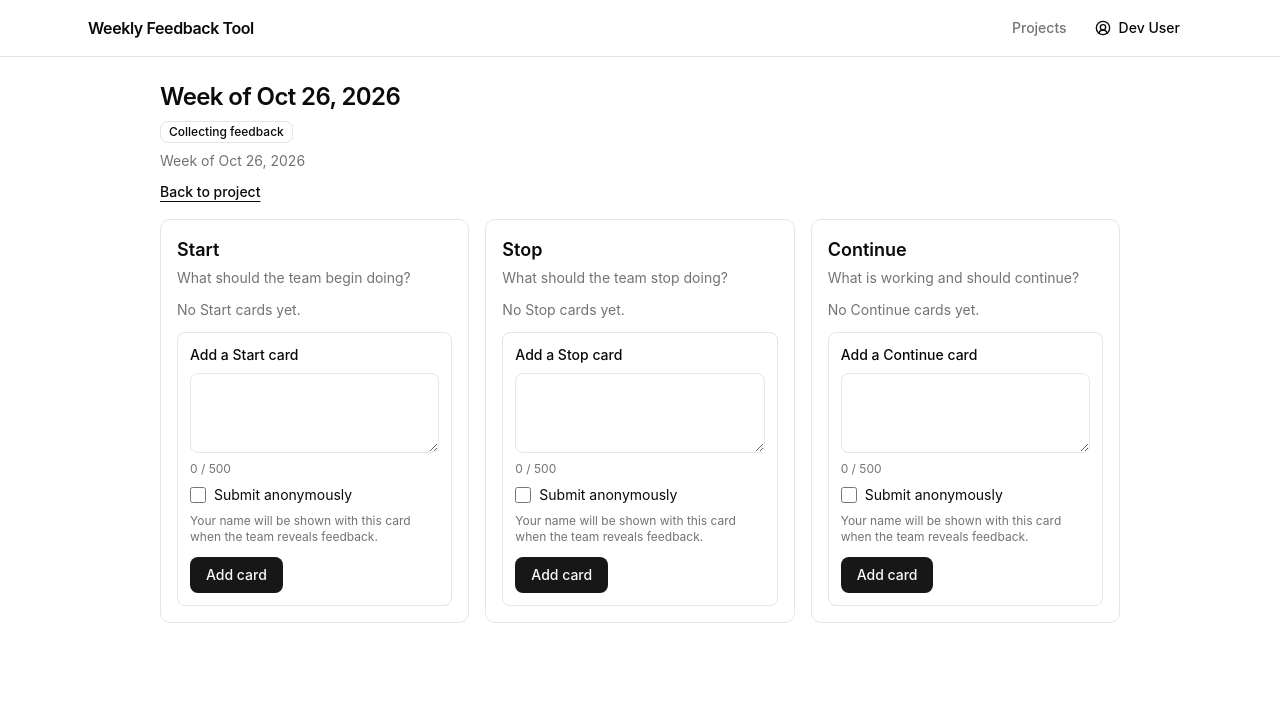
Test: FeedbackPage composer › switches the hint and the Add button with the checkbox
This screenshot has width=1280, height=720.
What coordinates should you click on to do the following:
click the checkbox labelled "Submit anonymously" below "Add a Stop card"
I would click on:
 (523, 495)
Its box is [515,487,531,503].
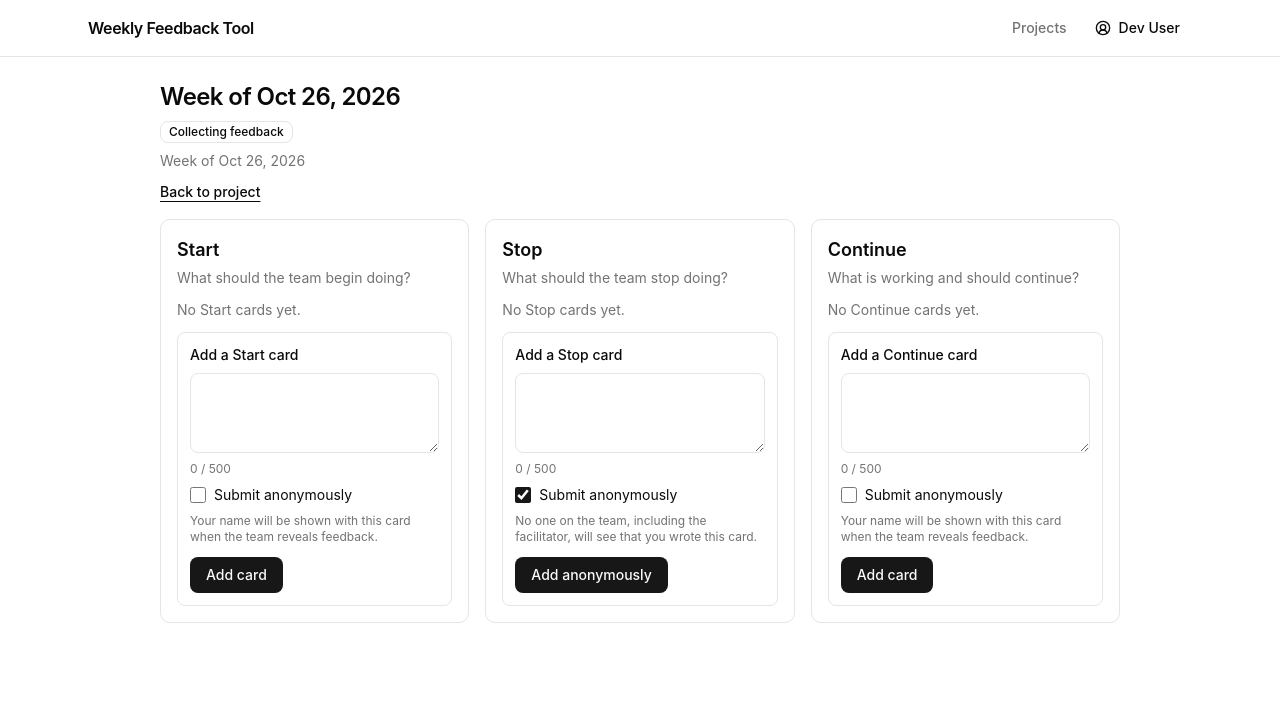
Result: the checkbox labelled "Submit anonymously" below "Add a Stop card" is checked
Result: the text "No one on the team, including the facilitator, will see that you wrote this card." is shown at [515,513,757,544]
Result: the button "Add anonymously" is shown at [515,557,668,593]
What coordinates should you click on to do the following:
click the checkbox labelled "Submit anonymously" below "Add a Stop card"
I would click on:
 (523, 495)
Its box is [515,487,531,503].
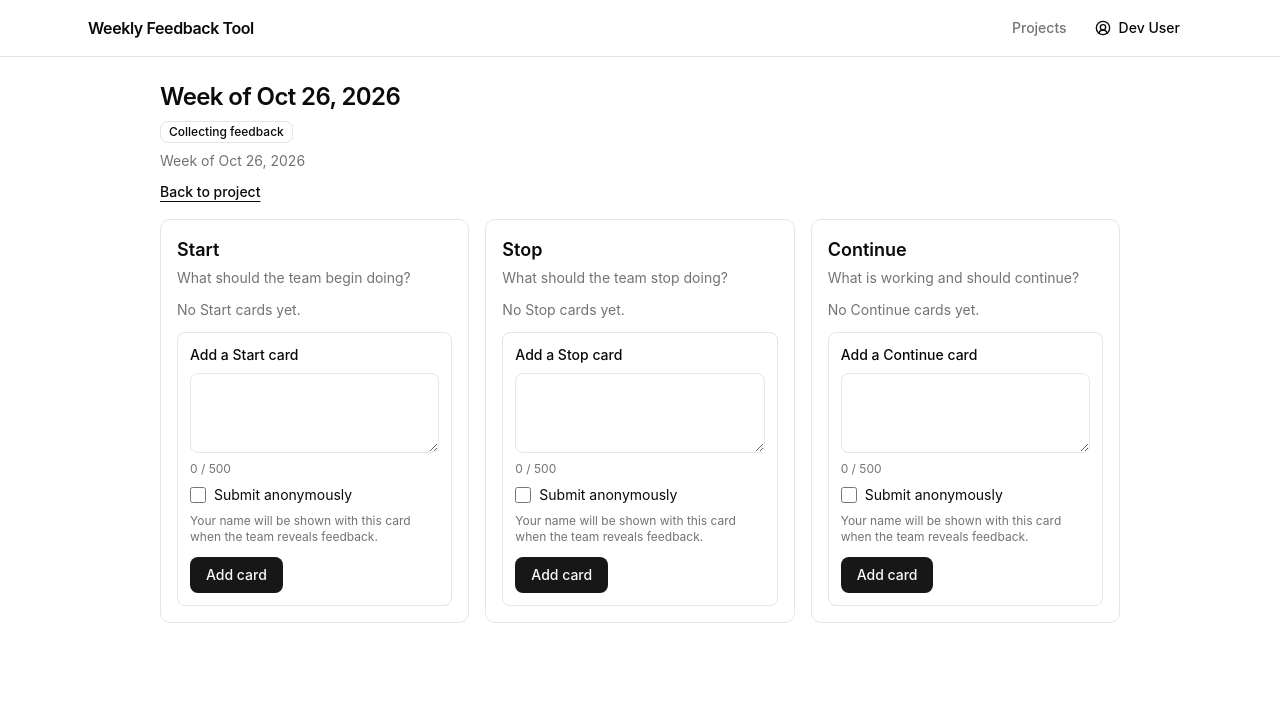
Result: the button "Add card" below "Add a Stop card" is shown at [515,557,608,593]
